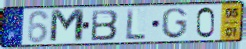0: (195, 6, 216, 40)
6: (26, 9, 52, 44)
B: (90, 9, 120, 42)
G: (161, 6, 189, 40)
L: (126, 8, 148, 42)
M: (48, 8, 87, 45)
